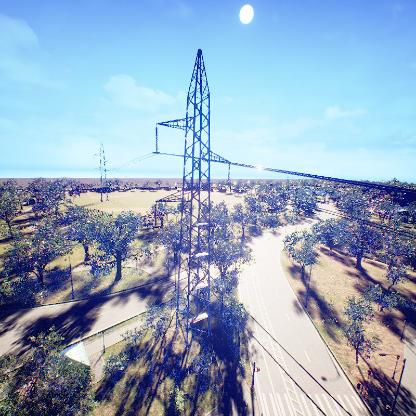tower: (152, 47, 239, 368), (91, 140, 113, 203)
